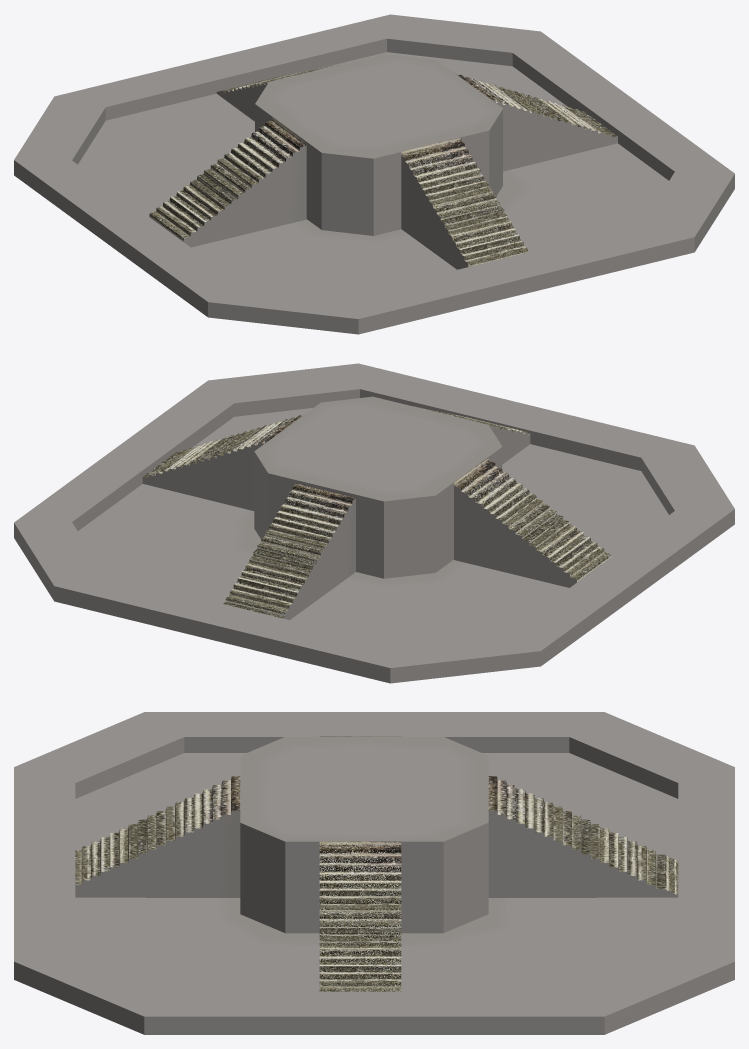
Rendered from boss-arena.glb.
3 views of the same model, one above another, from view 1: azimuth 30°, elevation 25°; view 2: azimuth 150°, elevation 25°; view 3: azimuth 270°, elevation 25° (orthographic). The views are drawn at different scales.
Parts seen in each view (by area): view 1: Cube; view 2: Cube; view 3: Cube.
Part boxes in pixels (x1,y1,x2,y2): Cube: (14,14,734,334); Cube: (14,363,734,683); Cube: (14,712,734,1034).
Size of the model in its own units: 15.55 by 2.23 by 15.55.
Materials: 1 (1 with a texture image).
